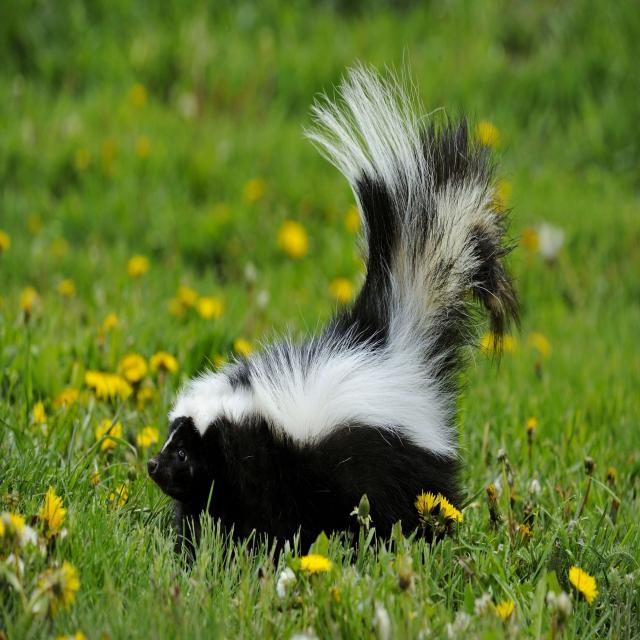Skunk: (137, 62, 513, 552)
